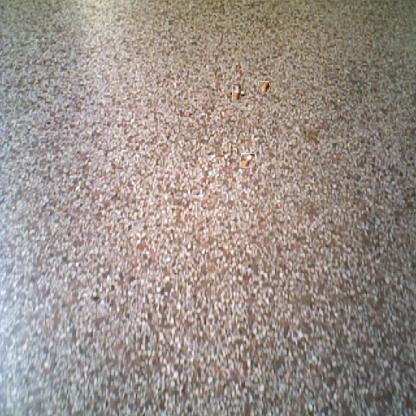dirty: (241, 154, 256, 168), (230, 86, 244, 99), (259, 82, 270, 92)
